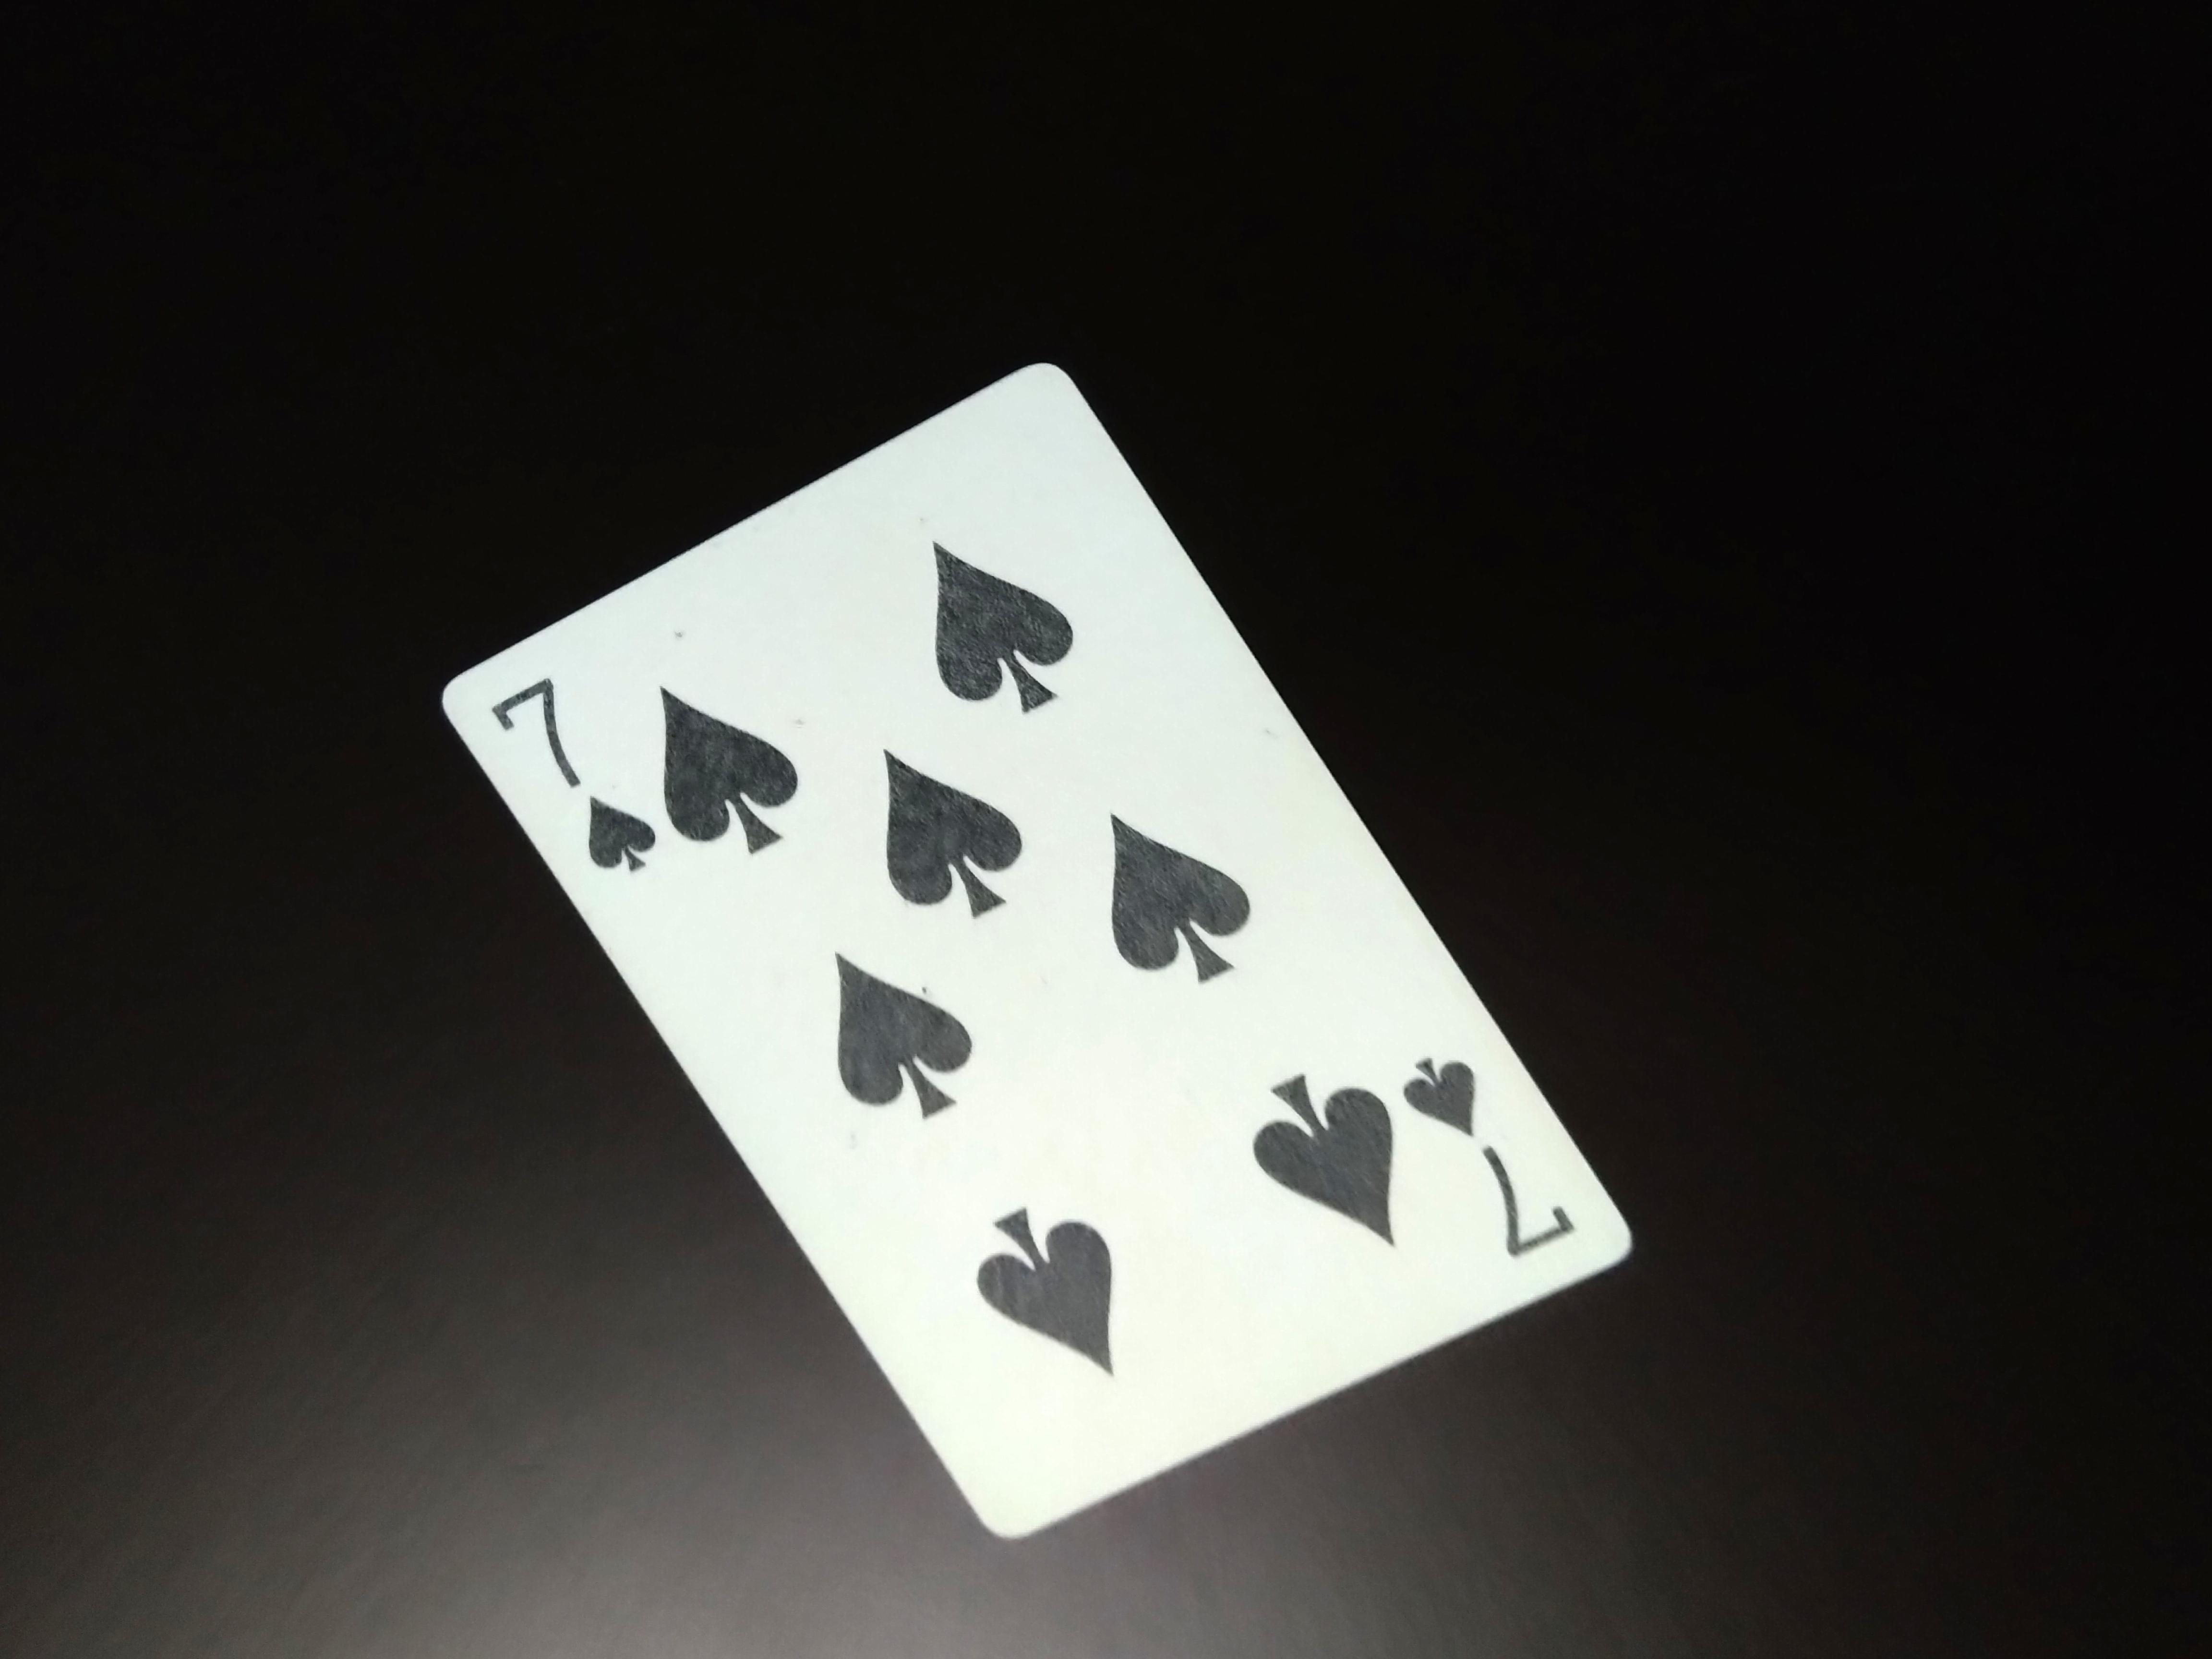7S: (489, 671, 664, 889)
